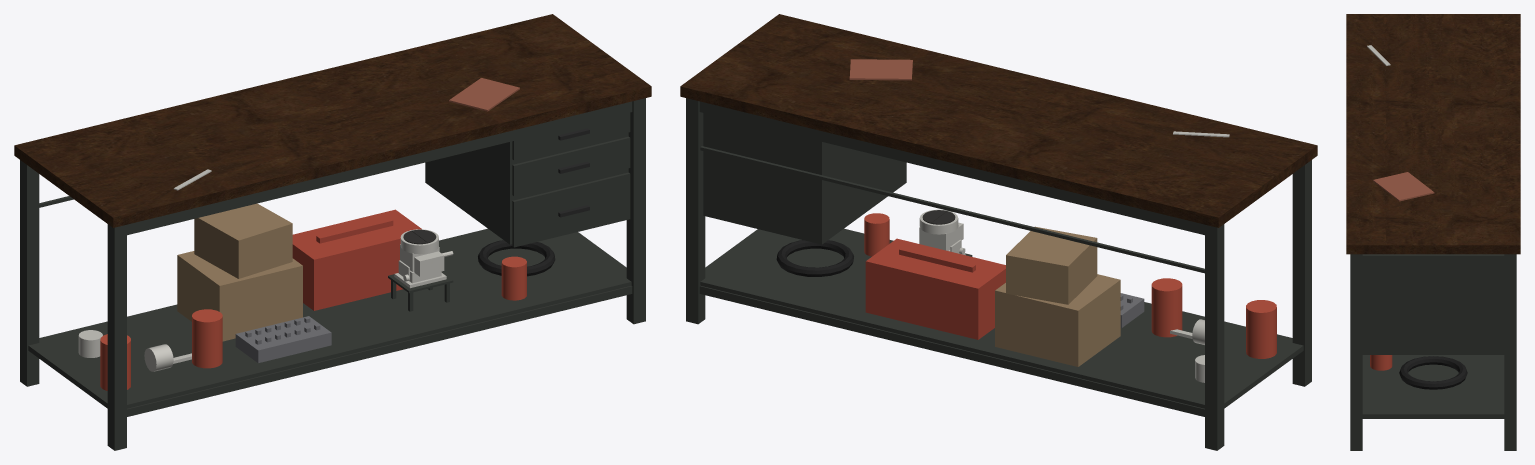
File: parts-bench.glb
3 renders of one model, left to right at view 1: azimuth 30°, elevation 25°; view 2: azimuth 150°, elevation 25°; view 3: azimuth 270°, elevation 25°, orthographic. The views are drawn at different scales.
Visible parts, largest first — view 1: bench; view 2: bench; view 3: bench.
Boxes of the visible parts, x1,y1,x2,y2 form: bench: [14, 14, 651, 450]; bench: [680, 14, 1317, 450]; bench: [1346, 14, 1520, 450].
Bounding box in the file's own units: 2.2 × 0.926 × 0.7.
4 materials, 1 textured.
